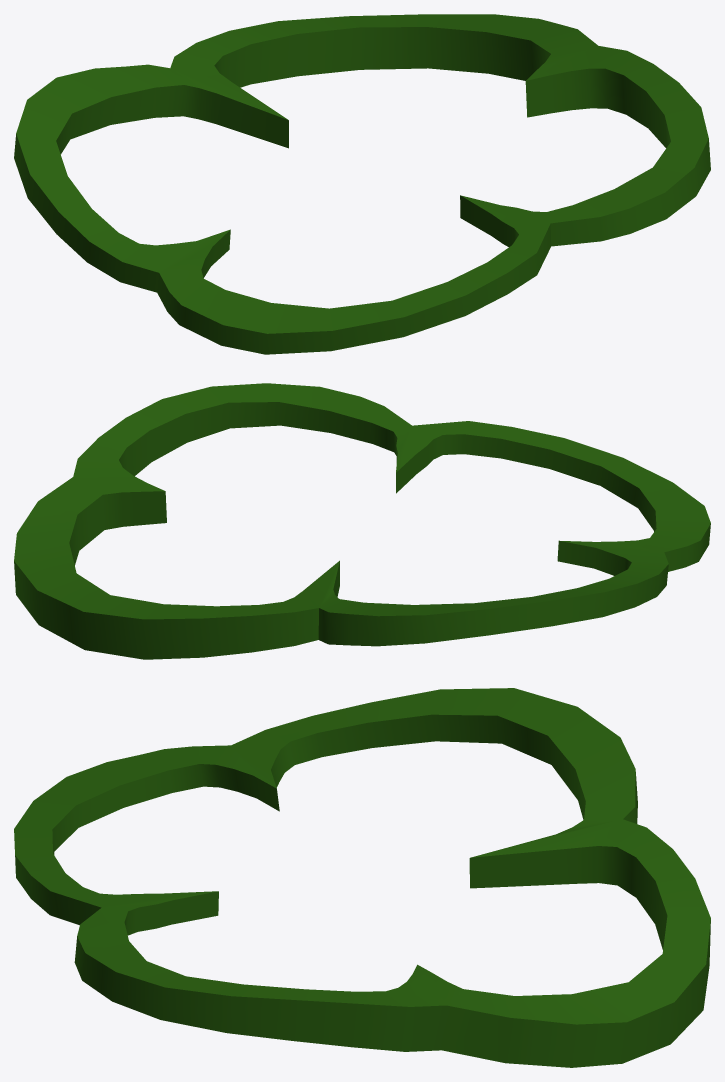
Rendered from m_greenPepper.FBX.
3 views of the same model, one above another, from view 1: azimuth 30°, elevation 25°; view 2: azimuth 150°, elevation 25°; view 3: azimuth 270°, elevation 25° (orthographic). The views are drawn at different scales.
Parts seen in each view (by area): view 1: m_greenPepper; view 2: m_greenPepper; view 3: m_greenPepper.
Boxes of the visible parts, x1,y1,x2,y2 form: m_greenPepper: (14,14,710,354); m_greenPepper: (14,383,710,659); m_greenPepper: (14,688,710,1067).
Bounding box in the file's own units: 68.22 × 10.49 × 64.57.
